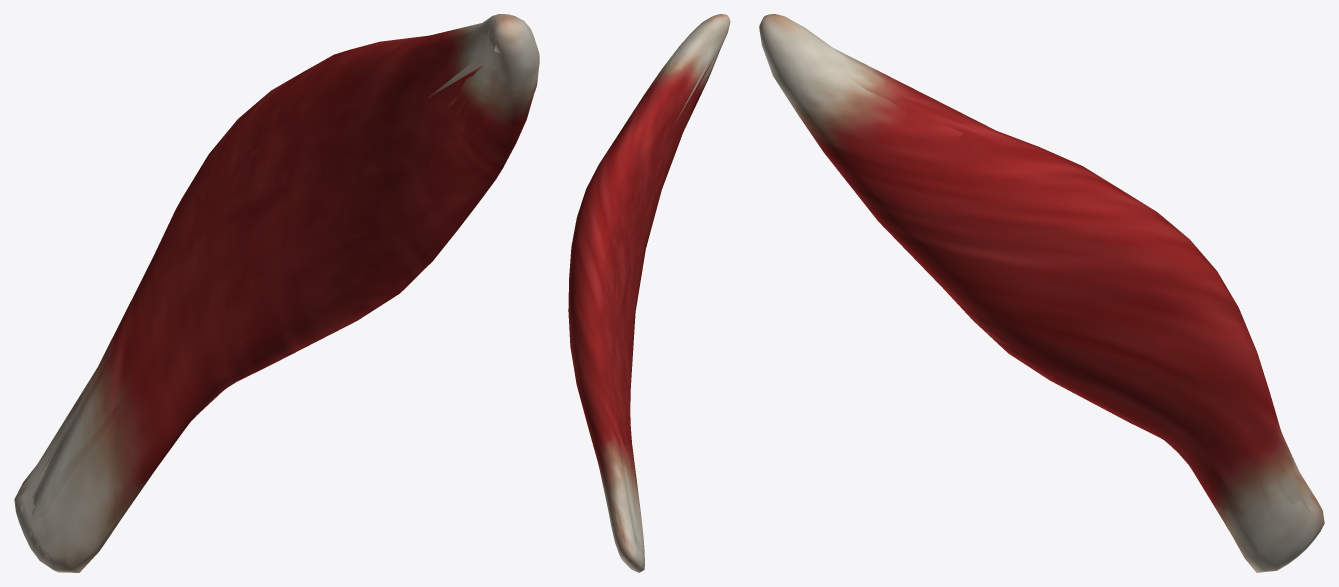
Rendered from R Tensor Fasciae Antebrachii.fbx.
3 views of the same model, side by side, from view 1: azimuth 30°, elevation 25°; view 2: azimuth 150°, elevation 25°; view 3: azimuth 270°, elevation 25° (orthographic). The views are drawn at different scales.
Visible parts, largest first — view 1: R Tensor Fasciae Antebrachii low, R Tensor Fasciae Antebrachii, R Tensor Fasciae Antebrachii high; view 2: R Tensor Fasciae Antebrachii, R Tensor Fasciae Antebrachii low, R Tensor Fasciae Antebrachii high; view 3: R Tensor Fasciae Antebrachii, R Tensor Fasciae Antebrachii low, R Tensor Fasciae Antebrachii high.
Part boxes in pixels (x1,y1,x2,y2): R Tensor Fasciae Antebrachii low: [14, 16, 536, 572]; R Tensor Fasciae Antebrachii: [14, 14, 539, 572]; R Tensor Fasciae Antebrachii high: [20, 16, 532, 560]; R Tensor Fasciae Antebrachii: [568, 14, 730, 572]; R Tensor Fasciae Antebrachii low: [570, 17, 728, 572]; R Tensor Fasciae Antebrachii high: [572, 16, 725, 568]; R Tensor Fasciae Antebrachii: [759, 14, 1324, 572]; R Tensor Fasciae Antebrachii low: [764, 17, 1323, 569]; R Tensor Fasciae Antebrachii high: [762, 19, 1315, 546].
Size of the model in its own units: 1.55 by 4.28 by 3.55.
